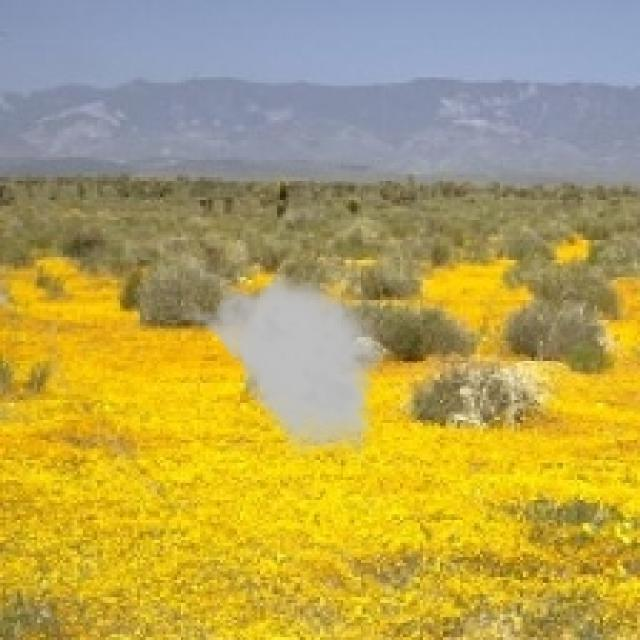Smoke: (174, 266, 386, 466)
